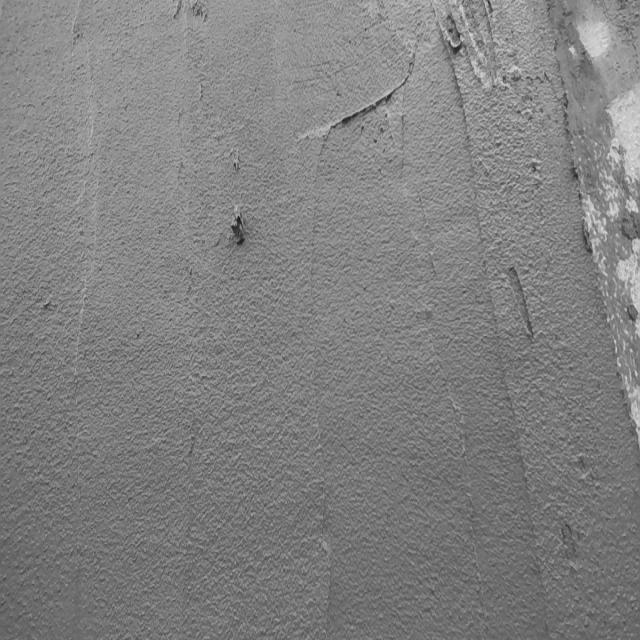trowels marks: (453, 58, 541, 631), (307, 68, 353, 619)
